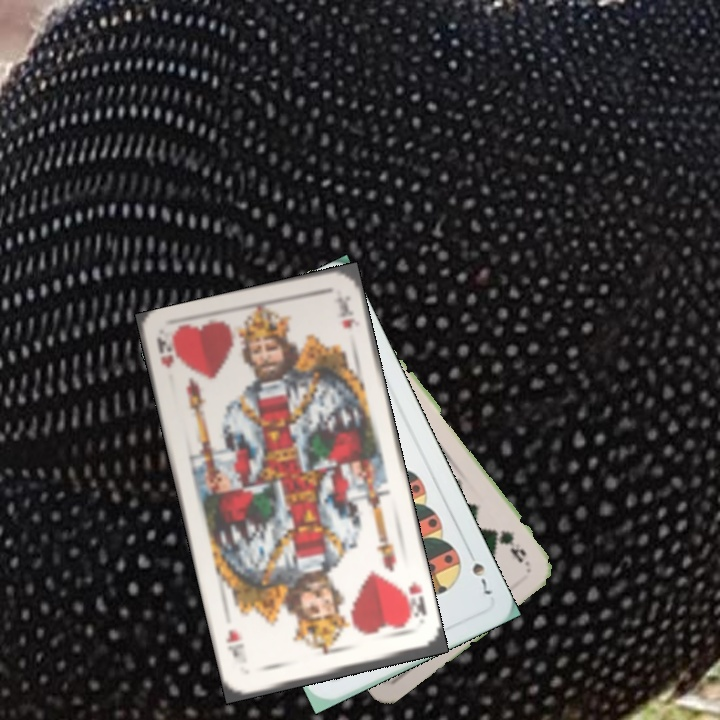G9: (489, 525, 533, 569)
HK: (397, 577, 429, 625), (153, 331, 180, 370)
S7: (463, 545, 496, 598)
